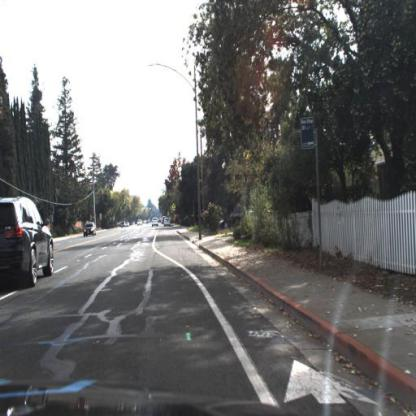car: (1, 190, 60, 296), (80, 219, 100, 239), (150, 216, 162, 231), (162, 217, 174, 229)
